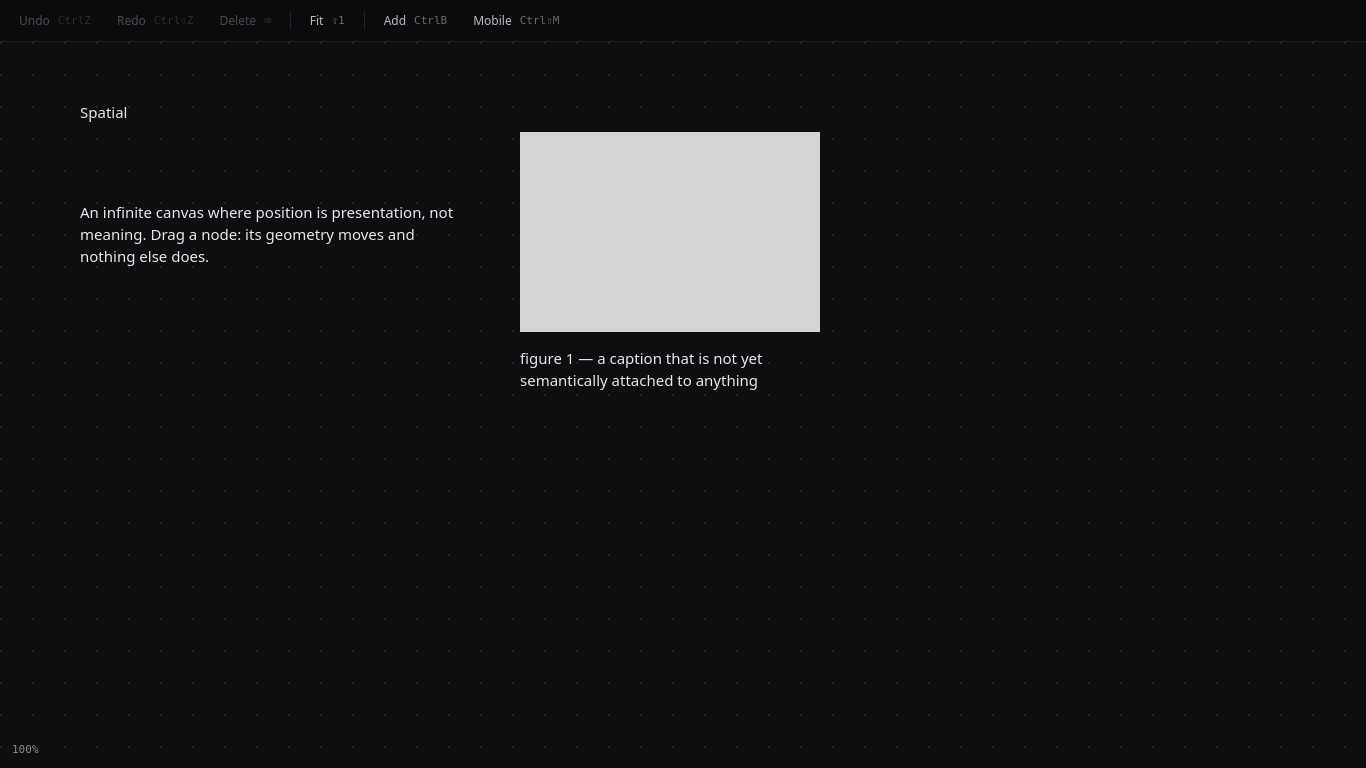
adding an image › clears the refusal once the address is edited again
This screenshot has width=1366, height=768.
Step 1. Click the button "Add" → (415, 20), box x1=373 y1=6 x2=458 y2=35
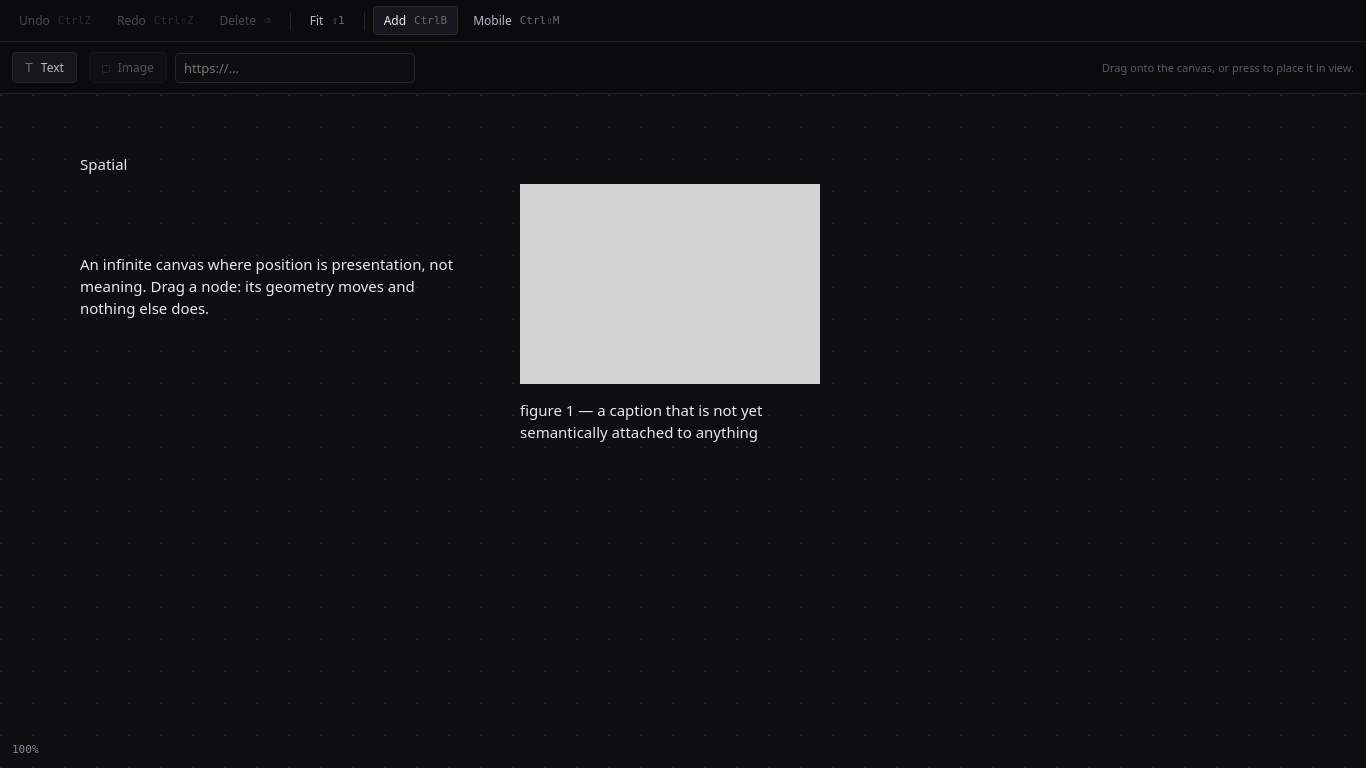
Step 2. Type "javascript:alert(1)" into the field named "image address" → (295, 68), box x1=175 y1=52 x2=415 y2=82
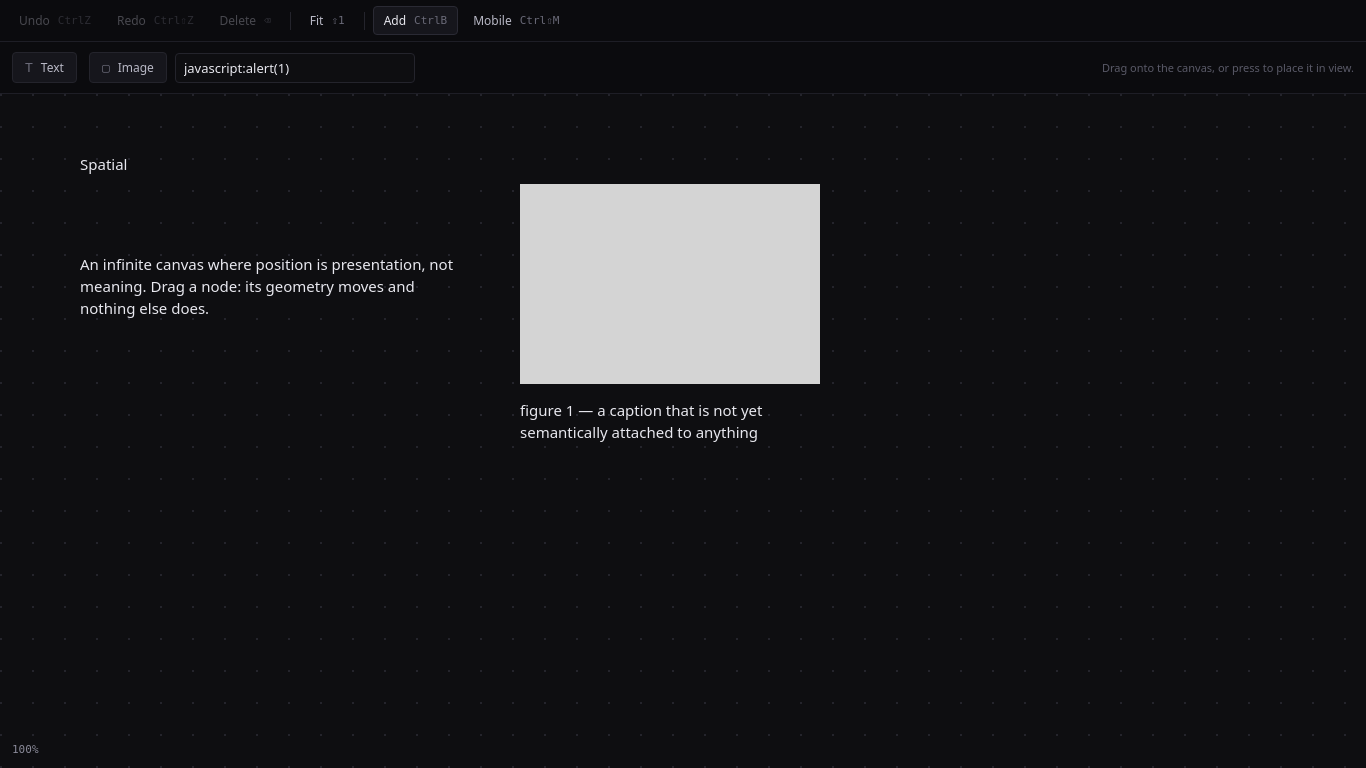
Step 3. Click the button "▢ Image" → (128, 68), box x1=89 y1=52 x2=167 y2=83
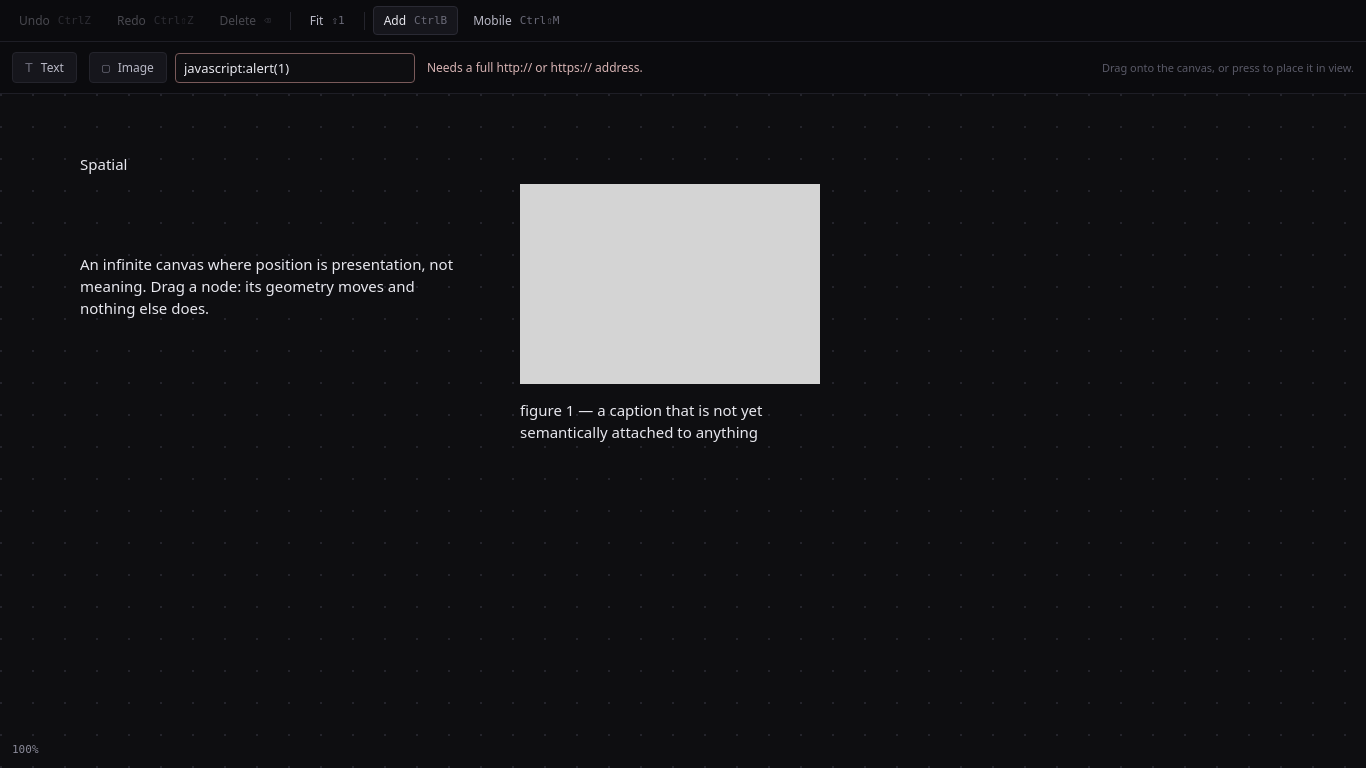
Now the message "Needs a full http:// or https:// address." is shown, box x1=427 y1=59 x2=643 y2=76
Step 4. Replace the text in the field named "image address" with "https://example.com/a.jpg" → (295, 68), box x1=175 y1=52 x2=415 y2=82
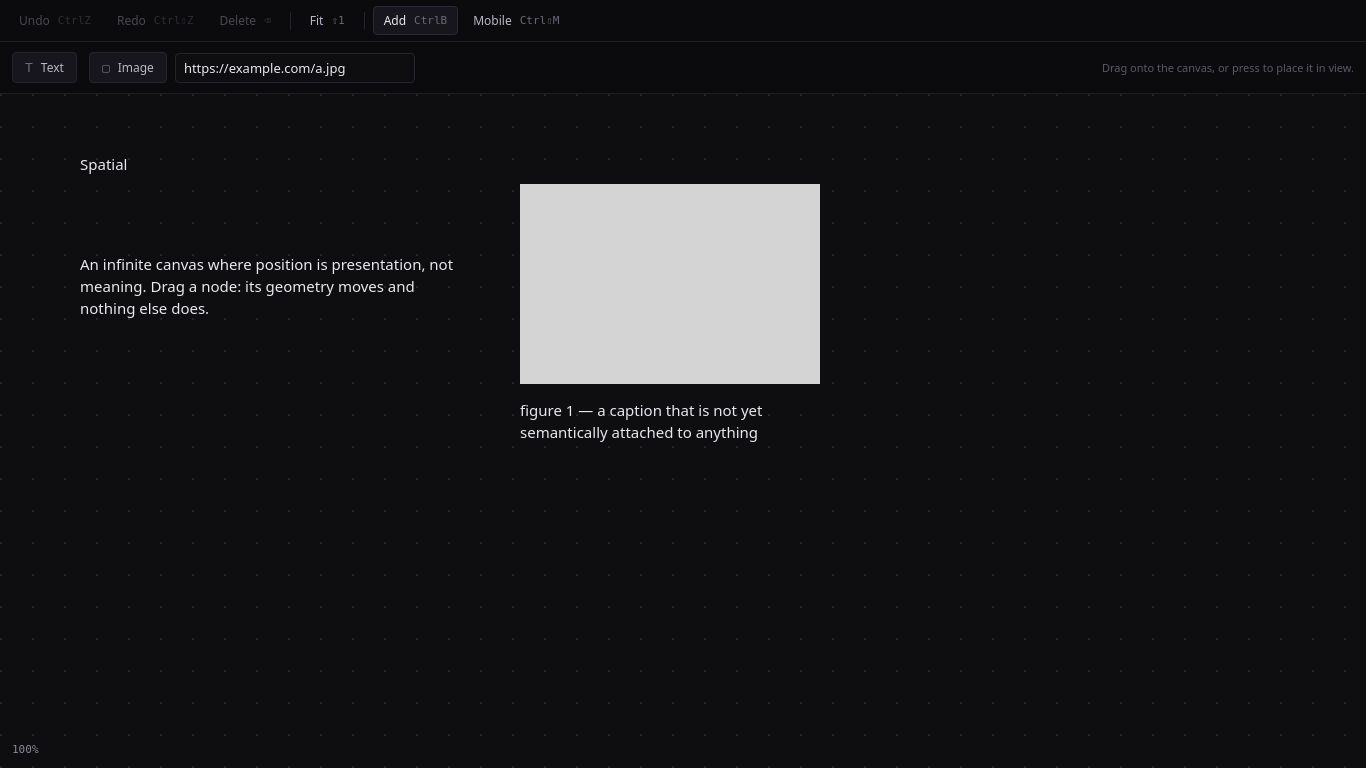
Now the message "Needs a full http:// or https:// address." is gone
